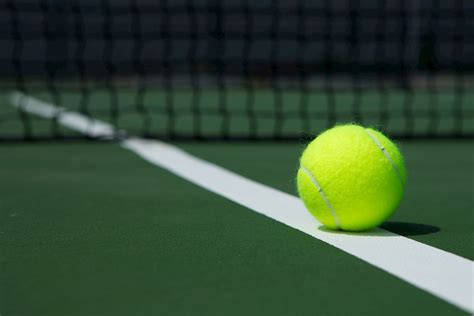tennis_ball: (297, 123, 409, 232)
